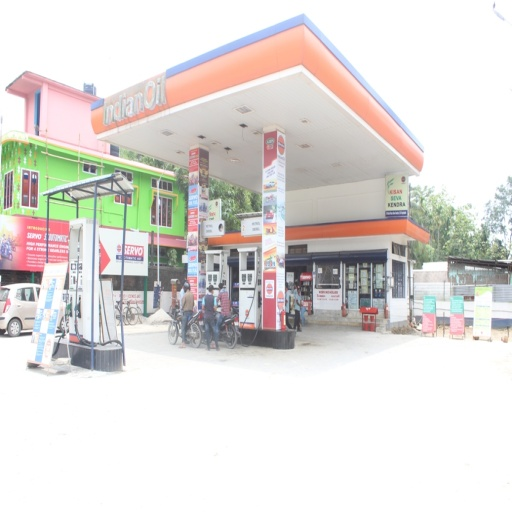roof: (85, 15, 427, 185)
